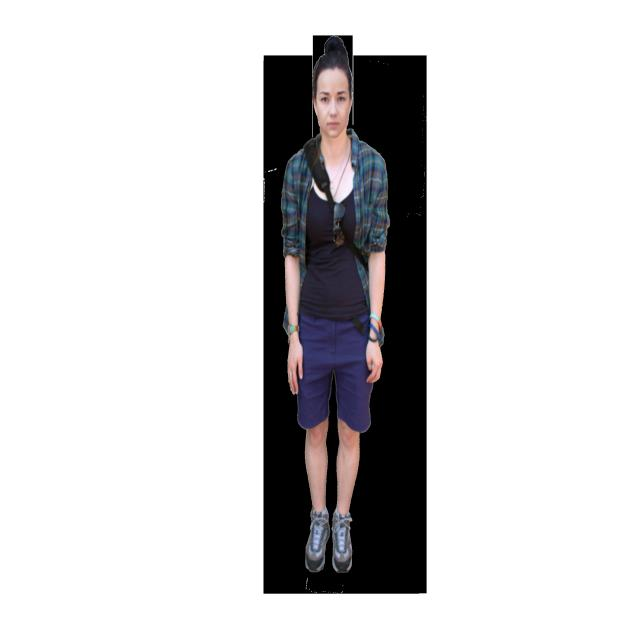jovem: (274, 39, 394, 578)
